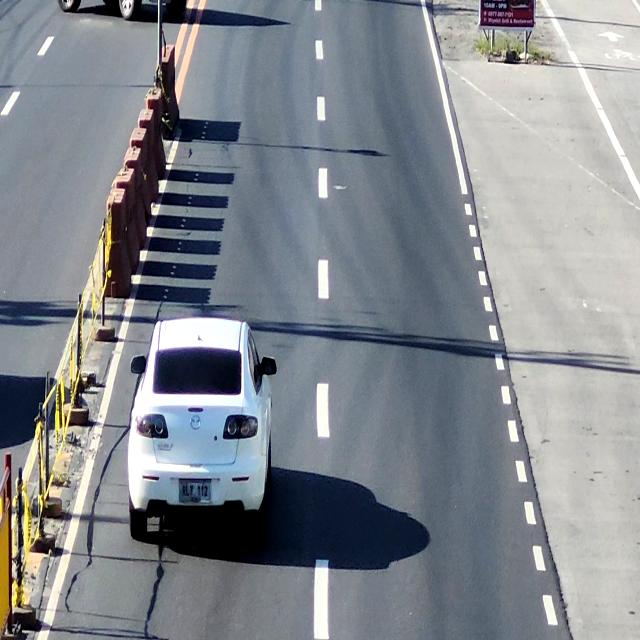Car: (133, 318, 275, 528)
License-Plate: (177, 473, 213, 504)
